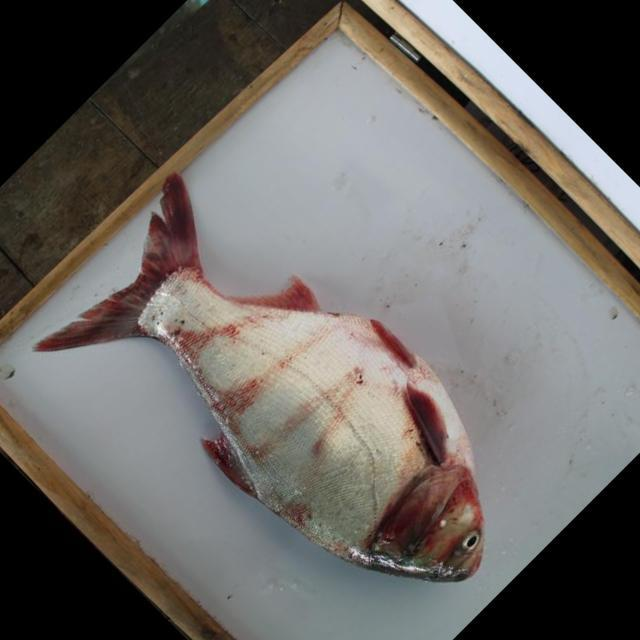SilverCarp: (62, 215, 505, 583)
